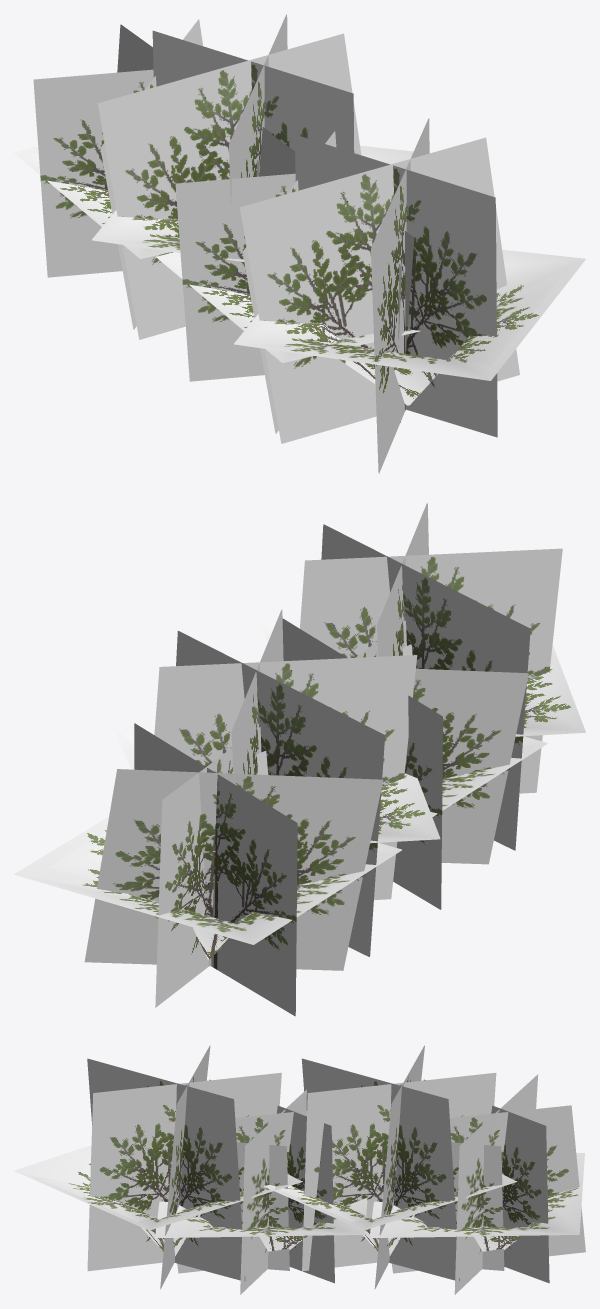
The model's file is weed_bush01c.fbx.
The picture shows the model from 3 angles, top to bottom: view 1: azimuth 30°, elevation 25°; view 2: azimuth 150°, elevation 25°; view 3: azimuth 270°, elevation 25°; orthographic projection. The views are drawn at different scales.
Visible parts, largest first — view 1: weed_bush01c; view 2: weed_bush01c; view 3: weed_bush01c.
Part boxes in pixels (left/top/right/bottom): weed_bush01c: left=14, top=14, right=585, bottom=473; weed_bush01c: left=14, top=503, right=585, bottom=1016; weed_bush01c: left=14, top=1045, right=585, bottom=1294.
Size of the model in its own units: 151 by 116 by 296.
